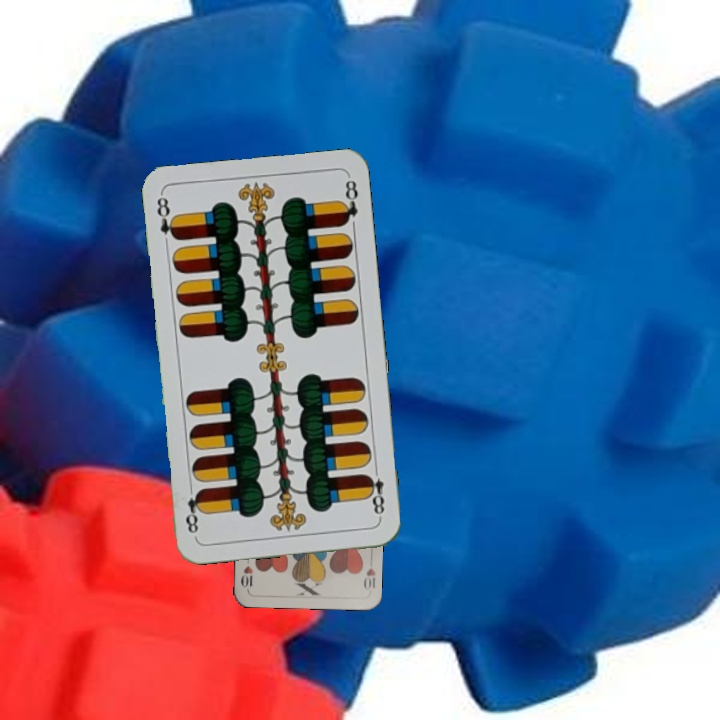E8: (362, 462, 387, 521), (152, 191, 180, 243)
H10: (359, 554, 378, 593)
